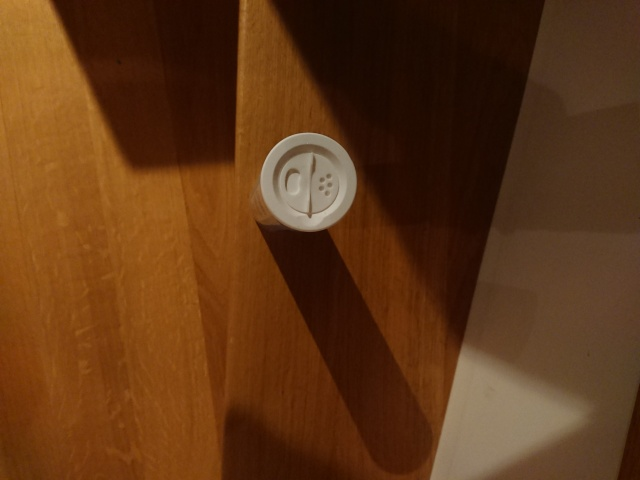Solana Pag Fine Sea Salt 250g: (248, 129, 361, 236)
